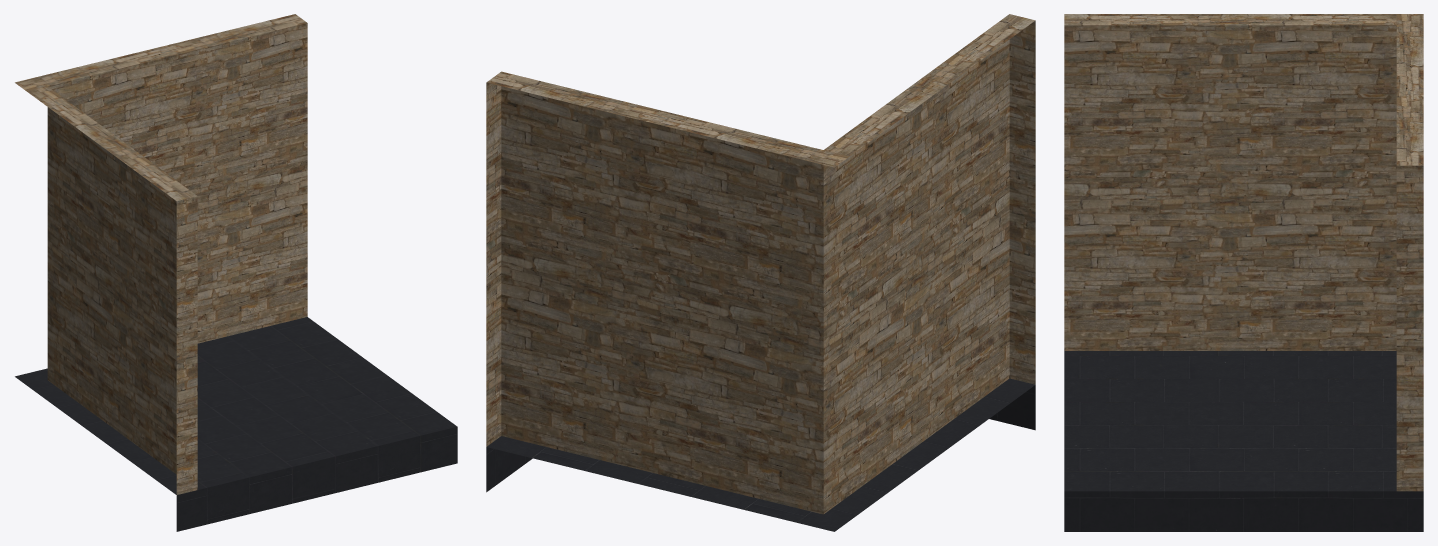
File: Room_setup_000.fbx
The picture shows the model from 3 angles, left to right: view 1: azimuth 30°, elevation 25°; view 2: azimuth 150°, elevation 25°; view 3: azimuth 270°, elevation 25°; orthographic projection. The views are drawn at different scales.
Visible parts, largest first — view 1: Floor.001; view 2: Floor.001; view 3: Floor.001.
Part boxes in pixels (<box>): Floor.001: <box>15,14,457,531</box>; Floor.001: <box>486,14,1035,531</box>; Floor.001: <box>1064,14,1423,531</box>.
Size of the model in its own units: 200 by 225 by 200.
1 material, 1 textured.
